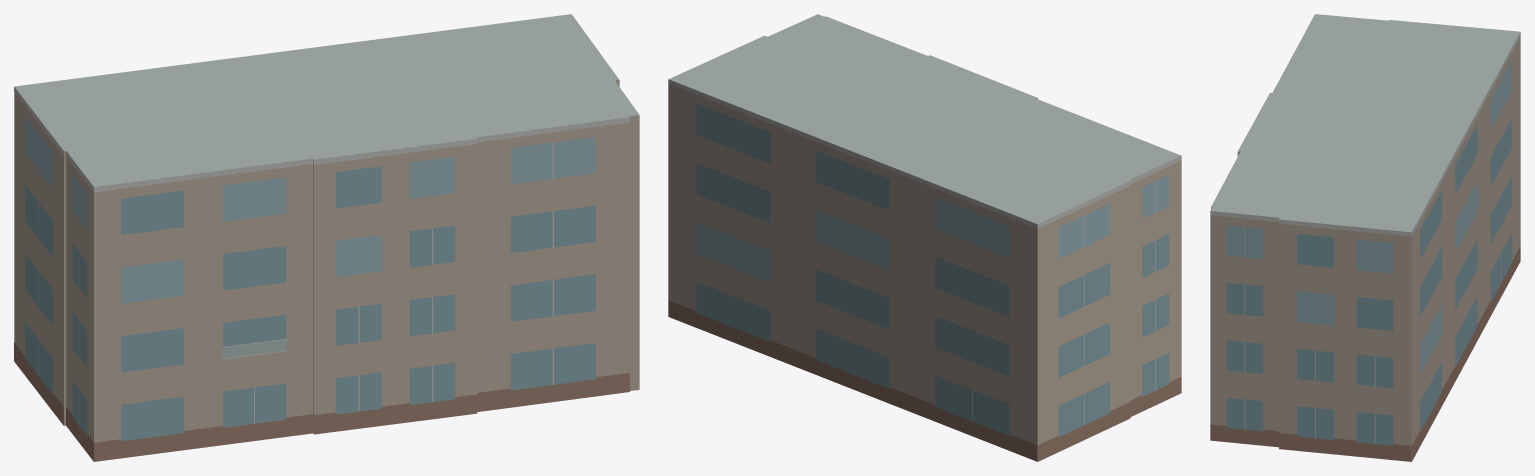
The model's file is survey-upis-33002911.glb.
The picture shows the model from 3 angles, left to right: view 1: azimuth 30°, elevation 25°; view 2: azimuth 150°, elevation 25°; view 3: azimuth 270°, elevation 25°; orthographic projection. The views are drawn at different scales.
Visible parts, largest first — view 1: survey-upis-33002911.tmp; view 2: survey-upis-33002911.tmp; view 3: survey-upis-33002911.tmp.
Part boxes in pixels (left/top/right/bottom): survey-upis-33002911.tmp: left=14, top=14, right=639, bottom=461; survey-upis-33002911.tmp: left=668, top=14, right=1181, bottom=461; survey-upis-33002911.tmp: left=1210, top=14, right=1520, bottom=461.
Bounding box in the file's own units: 25.5 × 12.5 × 15.32.
